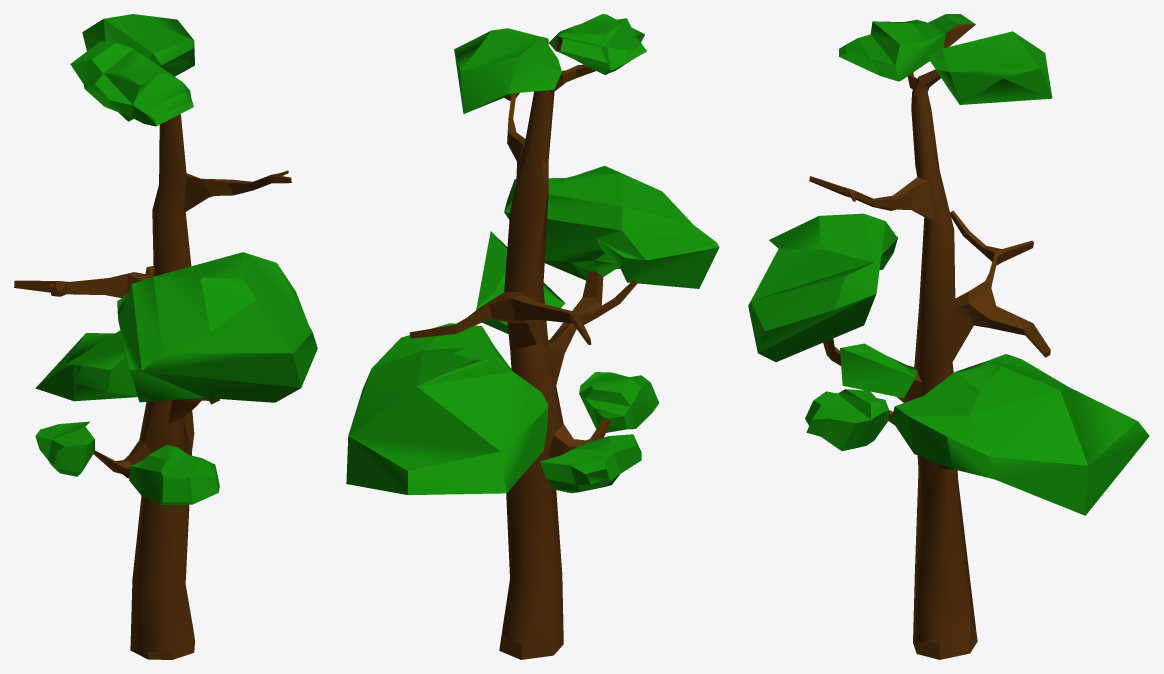
Rendered from baum_a003.FBX.
The picture shows the model from 3 angles, left to right: view 1: azimuth 30°, elevation 25°; view 2: azimuth 150°, elevation 25°; view 3: azimuth 270°, elevation 25°; orthographic projection. The views are drawn at different scales.
Parts seen in each view (by area): view 1: Baum_A003; view 2: Baum_A003; view 3: Baum_A003.
Part boxes in pixels (left/top/right/bottom): Baum_A003: left=14, top=14, right=317, bottom=659; Baum_A003: left=346, top=14, right=719, bottom=659; Baum_A003: left=748, top=14, right=1149, bottom=659.
Size of the model in its own units: 24.56 by 57.57 by 34.8.
